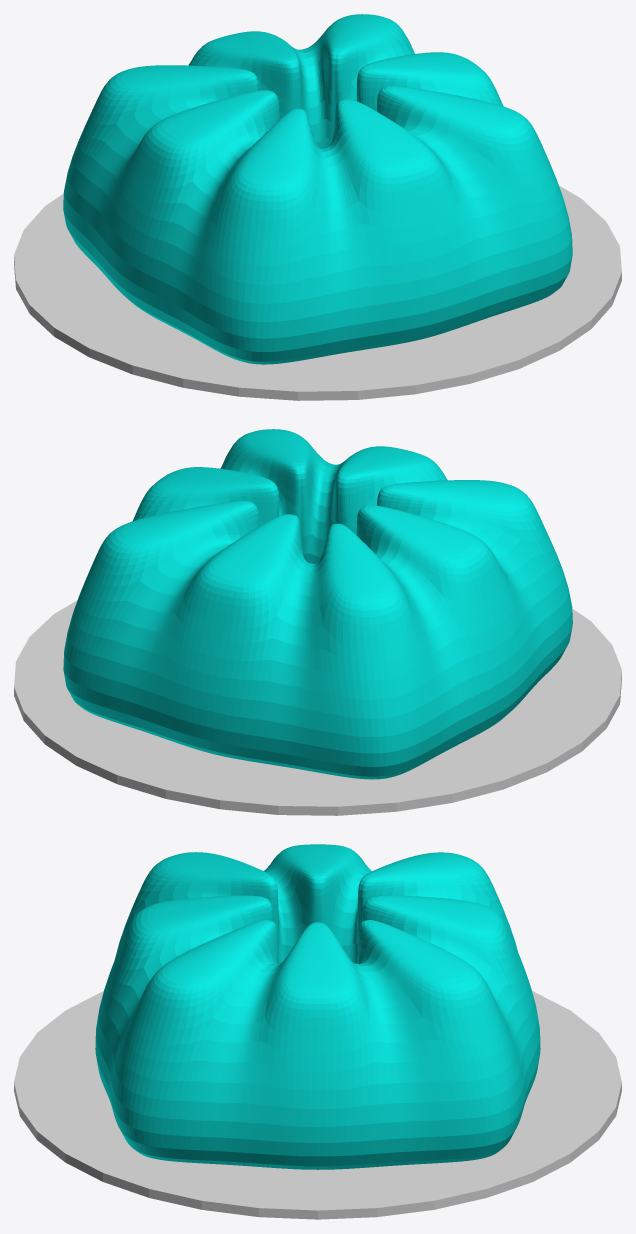
Rendered from Jelly.fbx.
3 views of the same model, one above another, from view 1: azimuth 30°, elevation 25°; view 2: azimuth 150°, elevation 25°; view 3: azimuth 270°, elevation 25° (orthographic).
Parts seen in each view (by area): view 1: Куб, Цилиндр; view 2: Куб, Цилиндр; view 3: Куб, Цилиндр.
Boxes of the visible parts, box(x1,y1,x2,y2) form: Куб: box(63, 14, 572, 364); Цилиндр: box(14, 185, 621, 400); Куб: box(63, 429, 572, 779); Цилиндр: box(14, 600, 621, 815); Куб: box(95, 844, 540, 1169); Цилиндр: box(14, 991, 621, 1219).
Bounding box in the file's own units: 545 × 207 × 545.
